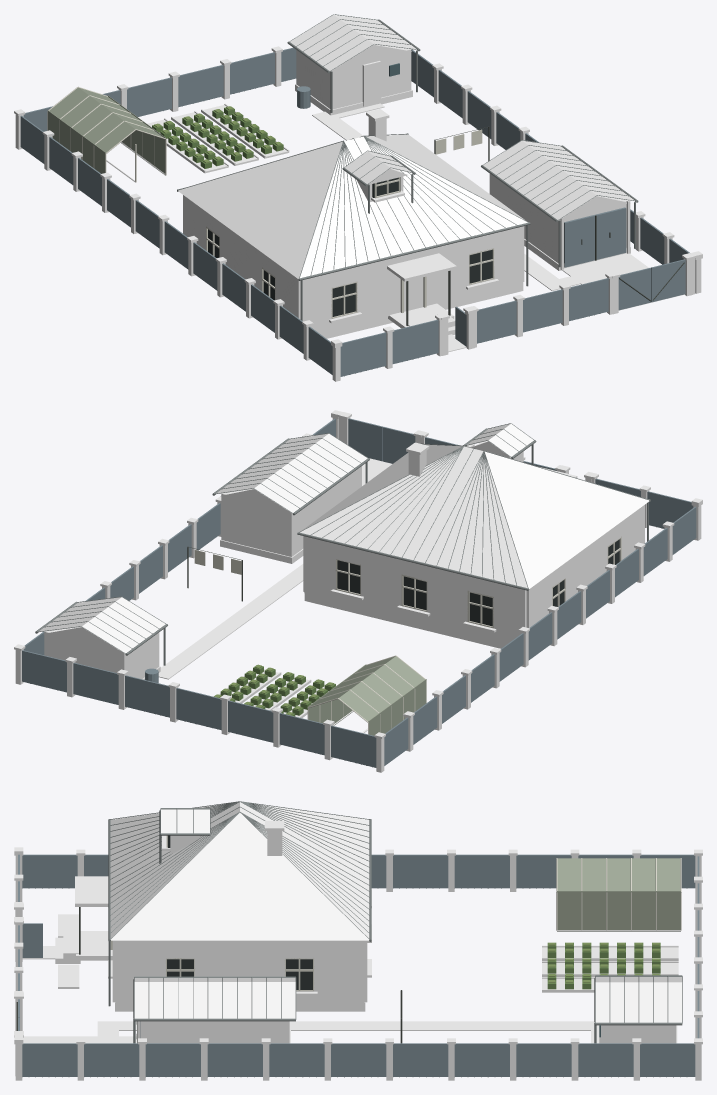
3 renders of one model, top to bottom at view 1: azimuth 30°, elevation 25°; view 2: azimuth 150°, elevation 25°; view 3: azimuth 270°, elevation 25°, orthographic. The views are drawn at different scales.
Visible parts, largest first — view 1: ParcelGeometry.026, SummerPlanting.024; view 2: ParcelGeometry.026, SummerPlanting.024; view 3: ParcelGeometry.026, SummerPlanting.024.
Part boxes in pixels (x1,y1,x2,y2): ParcelGeometry.026: [14, 14, 702, 381]; SummerPlanting.024: [152, 106, 482, 168]; ParcelGeometry.026: [14, 410, 702, 772]; SummerPlanting.024: [194, 550, 335, 716]; ParcelGeometry.026: [14, 801, 702, 1080]; SummerPlanting.024: [547, 942, 660, 989].
Bounding box in the file's own units: 18.33 × 6.66 × 27.74.
